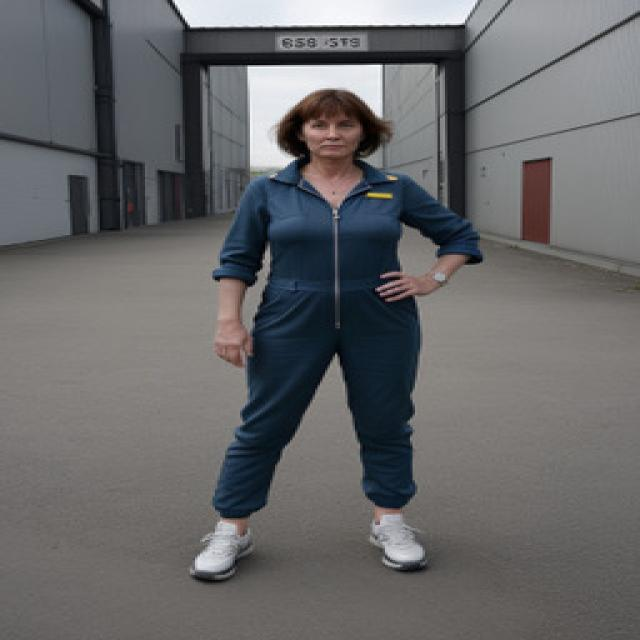Ai human 2: (171, 79, 491, 584)
